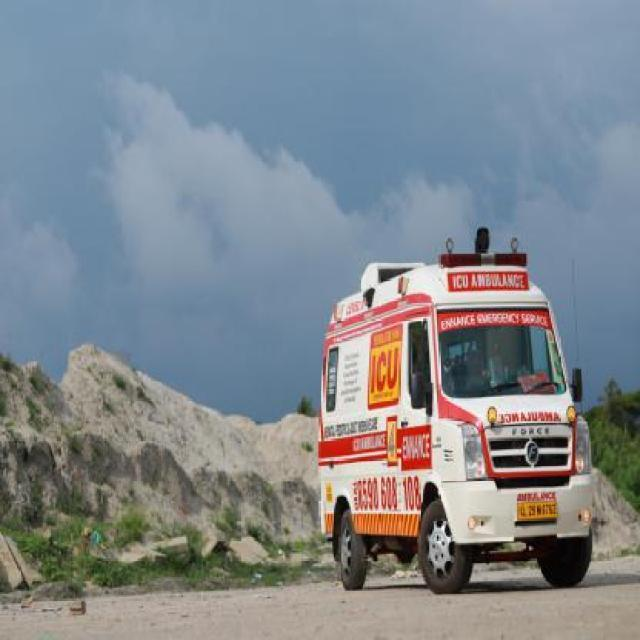Ambulance: (311, 223, 600, 597), (0, 547, 638, 638)
